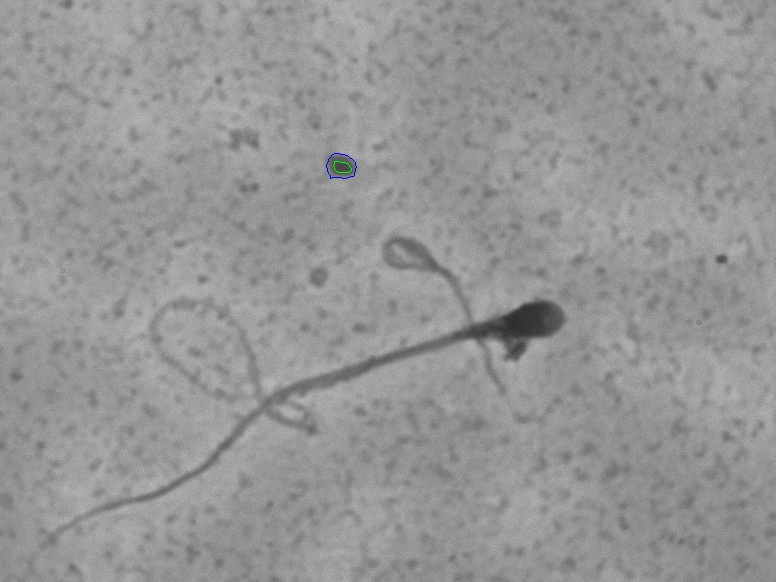Abnormal: (46, 198, 576, 508)
